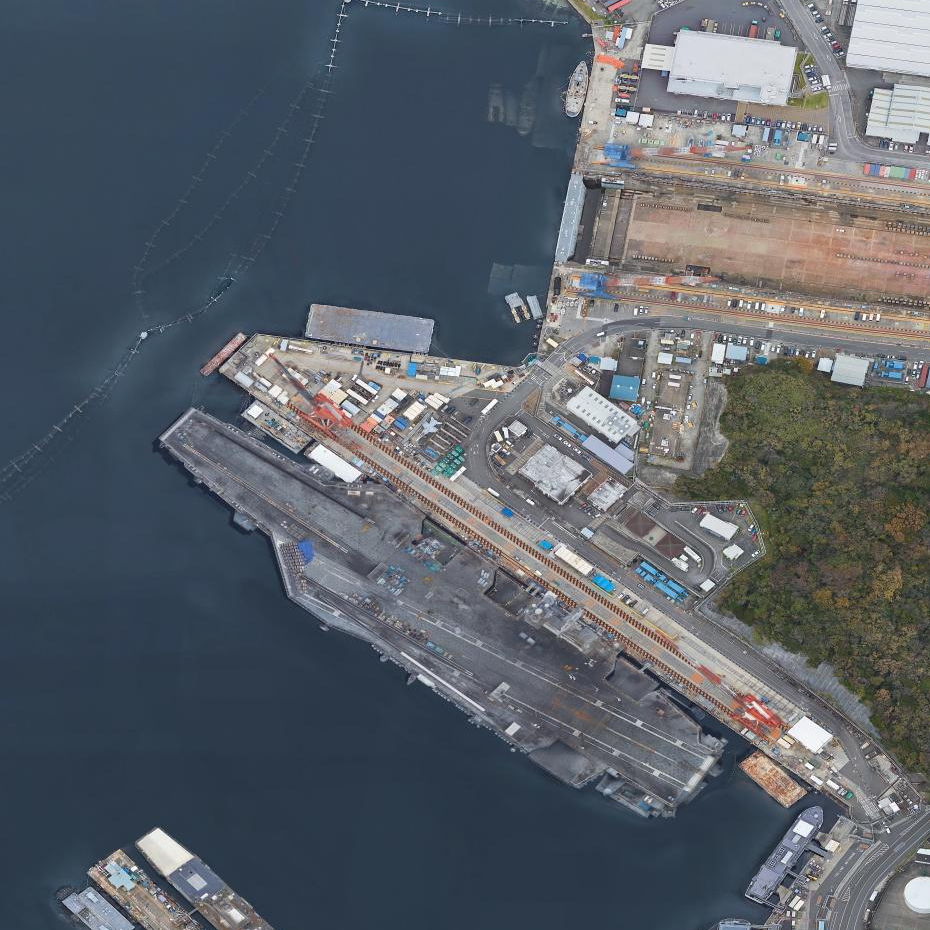Nimitz: (127, 366, 741, 856)
Other Ship: (562, 59, 594, 121)
Other Warship: (742, 796, 830, 912)
